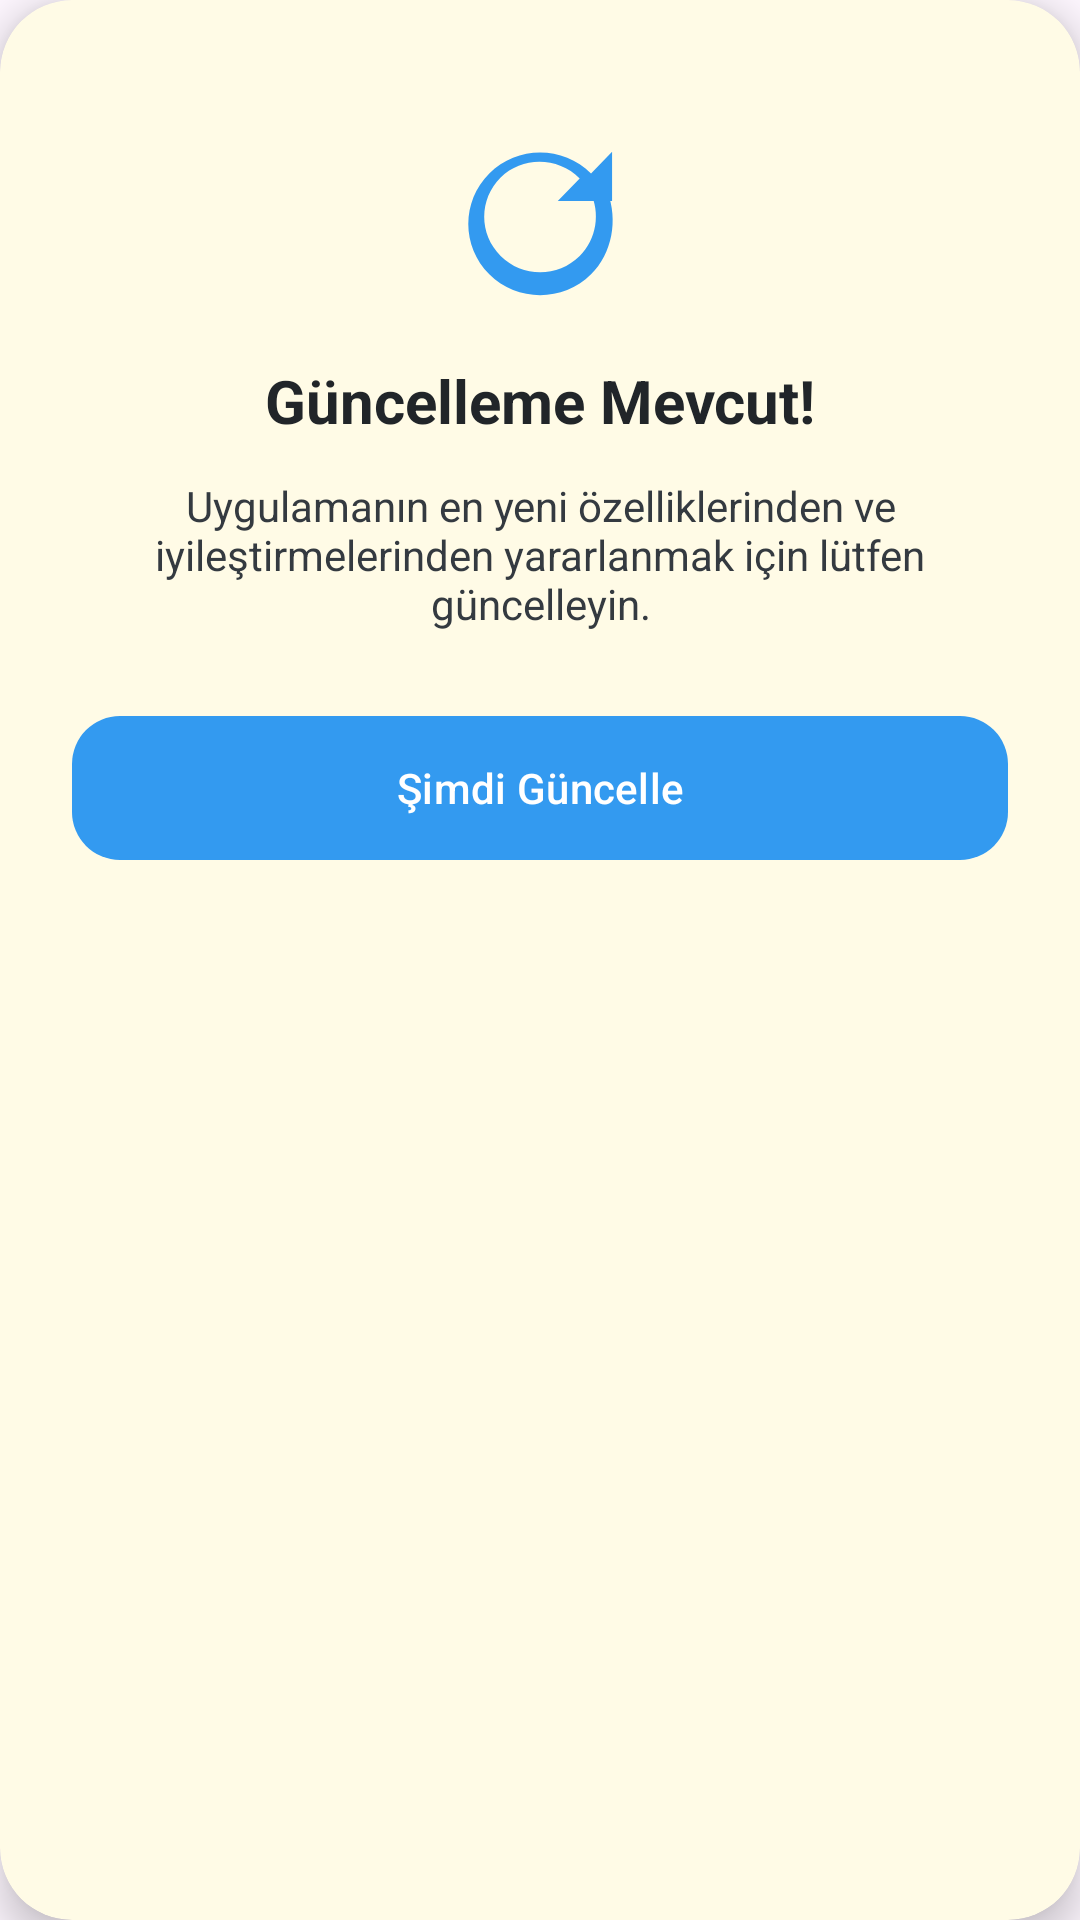

Named icons in this screenshot (1080×1920) and their centers, [x,y]:
update: [540,224]
